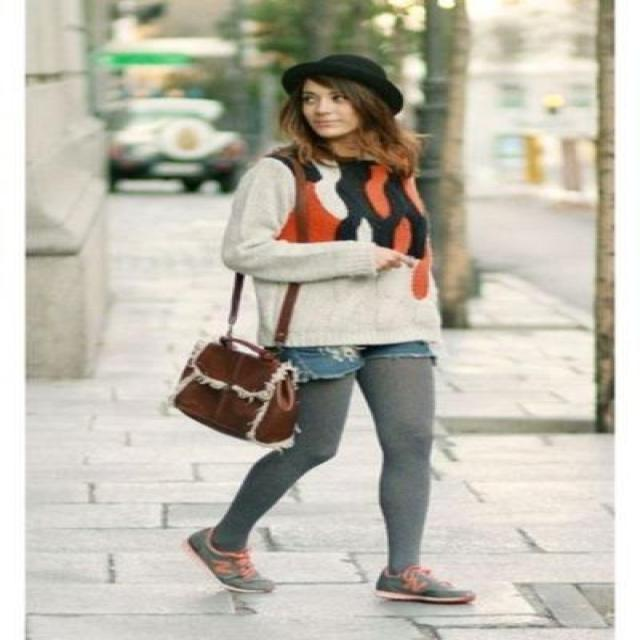bag: (168, 264, 325, 447)
hat: (282, 54, 396, 104)
shirt: (213, 140, 440, 346)
shoe: (187, 528, 474, 613)
shorts: (288, 340, 435, 384)
